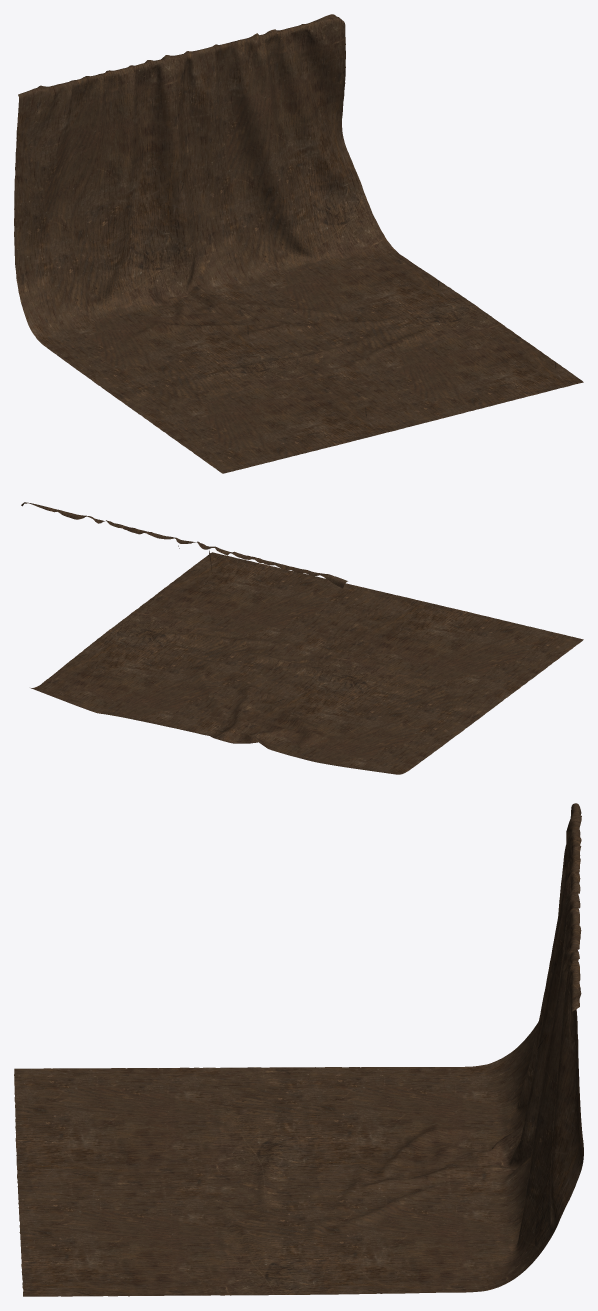
The model's file is backdrop2.glb.
3 views of the same model, one above another, from view 1: azimuth 30°, elevation 25°; view 2: azimuth 150°, elevation 25°; view 3: azimuth 270°, elevation 25° (orthographic). The views are drawn at different scales.
Visible parts, largest first — view 1: Cloth Backdrop; view 2: Cloth Backdrop; view 3: Cloth Backdrop.
Boxes of the visible parts, x1=… form: Cloth Backdrop: x1=14, y1=14, x2=583, y2=473; Cloth Backdrop: x1=21, y1=502, x2=583, y2=774; Cloth Backdrop: x1=14, y1=803, x2=583, y2=1296.
Bounding box in the file's own units: 6.31 × 3.57 × 6.61.
Materials: 1 (1 with a texture image).
